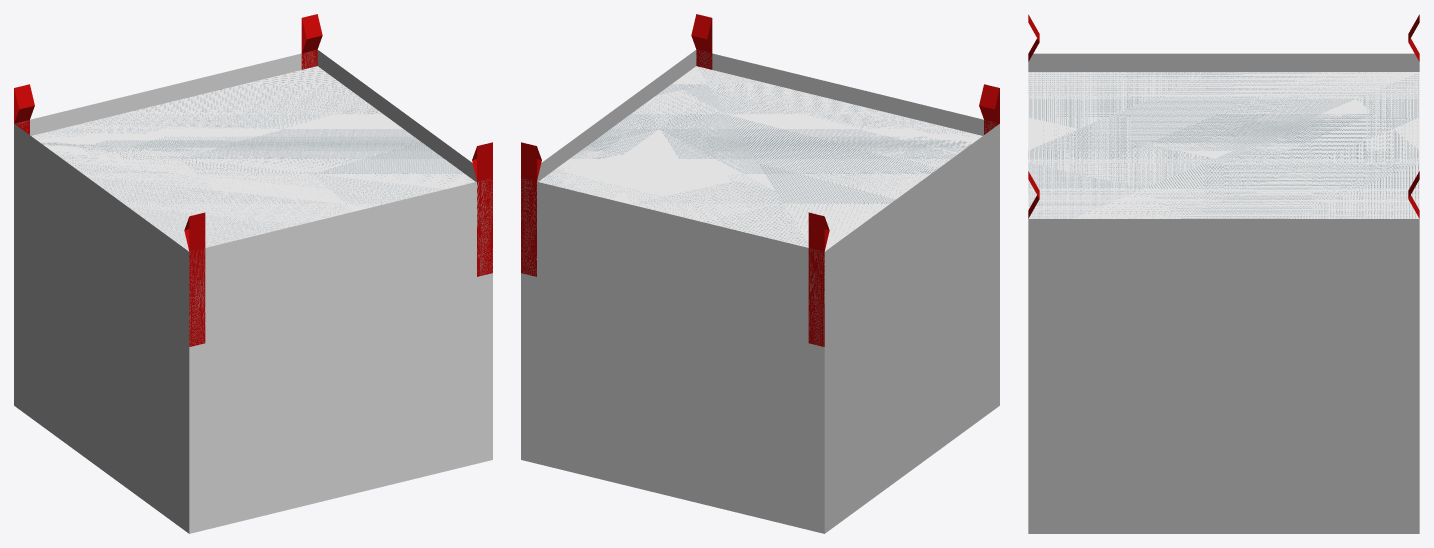
File: bigbag.dae
3 renders of one model, left to right at view 1: azimuth 30°, elevation 25°; view 2: azimuth 150°, elevation 25°; view 3: azimuth 270°, elevation 25°, orthographic. The views are drawn at different scales.
Parts seen in each view (by area): view 1: group_1 (×5), group_7, group_3, group_6, group_4, group_5; view 2: group_1 (×5), group_7, group_5, group_4, group_6, group_3; view 3: group_1, group_7.
Part boxes in pixels (x1,y1,x2,y2): group_1 (×5): (14,50,492,533); group_7: (31,66,475,251); group_3: (301,14,322,53); group_6: (184,212,205,251); group_4: (14,84,34,123); group_5: (472,142,492,181); group_1 (×5): (521,50,999,533); group_7: (538,66,982,251); group_5: (691,14,712,53); group_4: (808,212,829,251); group_6: (979,84,999,123); group_3: (521,142,541,181); group_1: (1028,53,1419,533); group_7: (1028,72,1419,218).
Size of the model in its own units: 39.37 by 39.37 by 39.37.
